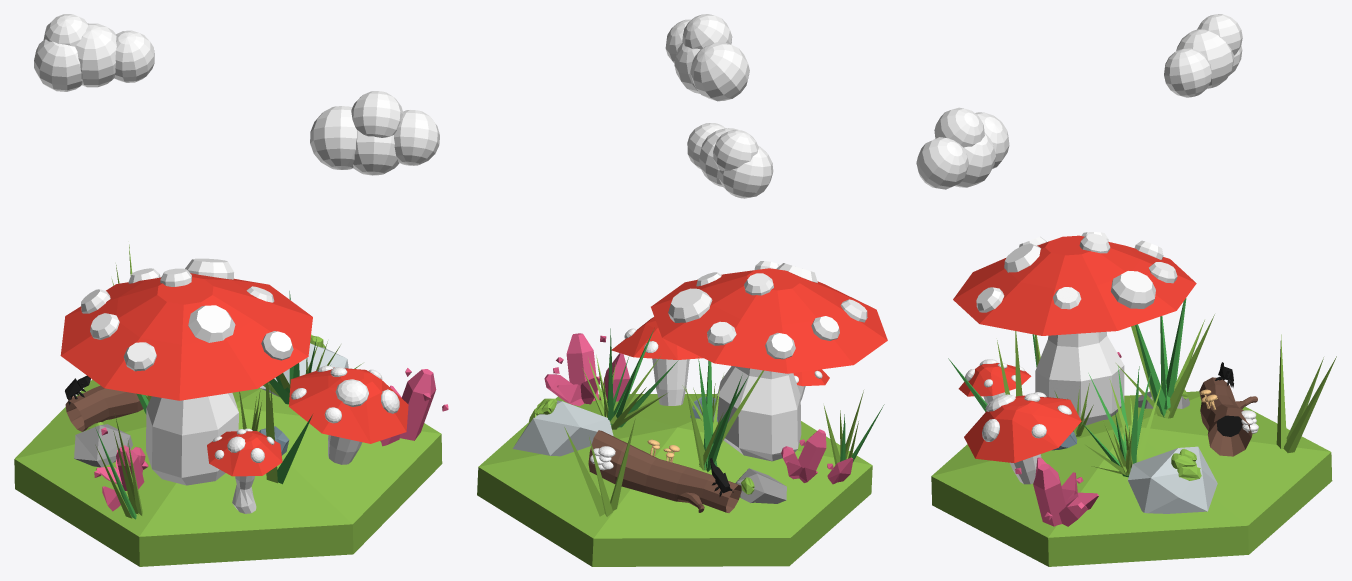
File: scene_Y8KrqF1hyP.glb
3 views of the same model, side by side, from view 1: azimuth 30°, elevation 25°; view 2: azimuth 150°, elevation 25°; view 3: azimuth 270°, elevation 25° (orthographic). The views are drawn at different scales.
Visible parts, largest first — view 1: group261894536, group28812893, group818511039, group714053941, group981885686, group921884307, group1196199746, group1075701673, group619536224, group314882424, group1658985830, group341939230 (+3 smaller); view 2: group261894536, group28812893, group818511039, group1196199746, group981885686, group341939230, group714053941, group116272241, group619536224, group447019988, group1490730808, group1658985830 (+5 smaller); view 3: group261894536, group28812893, group714053941, group818511039, group981885686, group341939230, group116272241, group1196199746, group619536224, group1490730808, group447019988, group921884307 (+2 smaller).
Boxes of the visible parts, x1,y1,x2,y2 form: group261894536: (14,379,442,566); group28812893: (60,258,312,485); group818511039: (310,91,439,175); group714053941: (289,365,408,464); group981885686: (34,14,154,91); group921884307: (207,428,282,513); group1196199746: (65,385,143,431); group1075701673: (74,424,132,467); group619536224: (390,369,436,440); group314882424: (265,382,312,484); group1658985830: (96,445,145,490); group341939230: (260,343,348,396); group261894536: (477,393,872,566); group28812893: (651,261,887,461); group818511039: (665,14,749,101); group1196199746: (588,430,741,512); group981885686: (687,123,773,198); group341939230: (512,400,613,456); group714053941: (611,317,702,405); group116272241: (685,357,763,471); group619536224: (544,333,599,406); group447019988: (598,328,678,429); group1490730808: (564,418,635,516); group1658985830: (781,429,826,482); group261894536: (931,391,1332,566); group28812893: (953,232,1196,425); group714053941: (964,392,1081,484); group818511039: (916,107,1009,189); group981885686: (1164,14,1242,97); group341939230: (1128,446,1217,513); group116272241: (1116,298,1214,418); group1196199746: (1199,377,1257,456); group619536224: (1033,464,1098,526); group1490730808: (1276,334,1336,452); group447019988: (1088,366,1162,469); group921884307: (958,359,1031,403).
Bounding box in the file's own units: 0.8903 × 1.1 × 0.9727.
